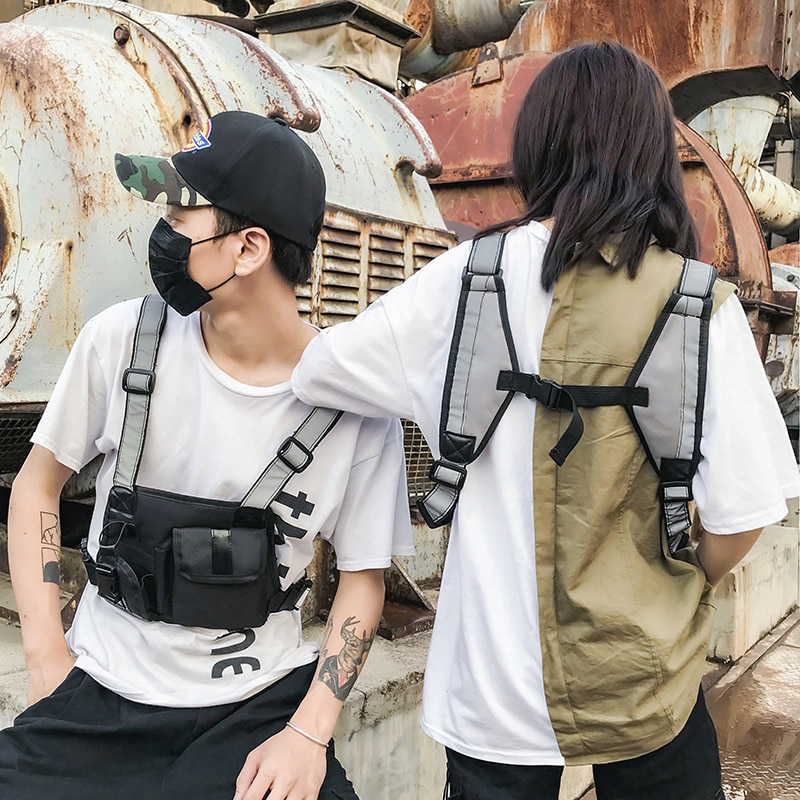Accessories|Hats: (112, 105, 326, 244)
Men's Backpacks: (424, 231, 717, 580), (82, 299, 340, 630)
Tops|Shirts: (292, 220, 800, 776)
Tops|T-shirts & Tanks: (23, 296, 411, 711)
